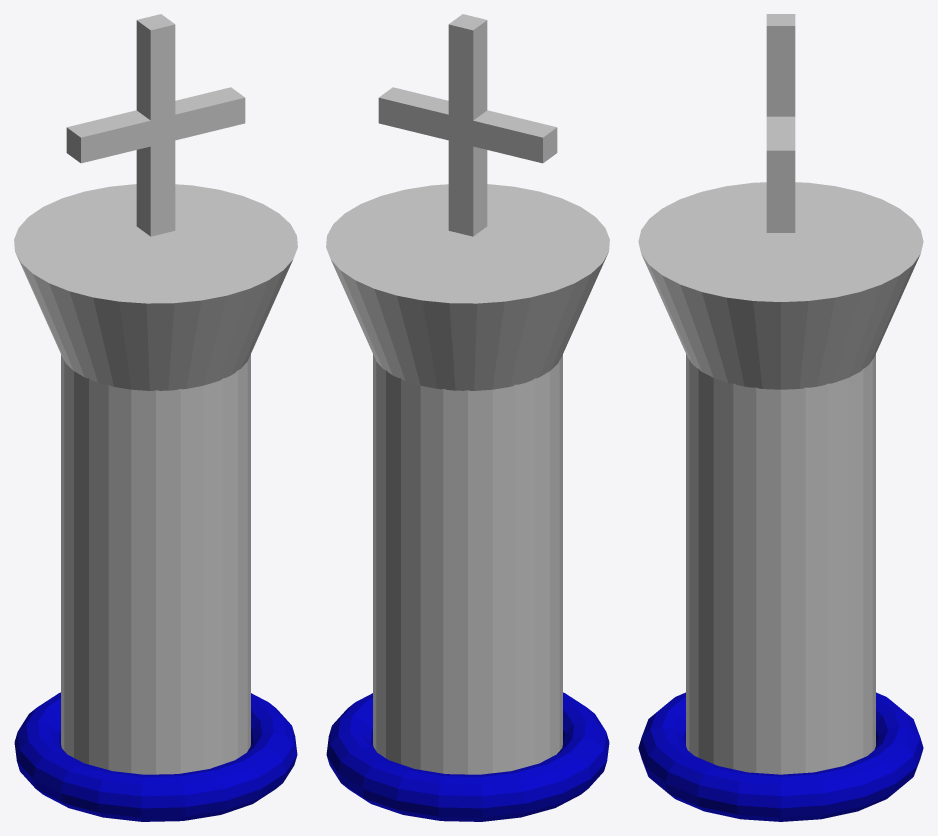
The model's file is WhiteKing.obj.
The picture shows the model from 3 angles, left to right: view 1: azimuth 30°, elevation 25°; view 2: azimuth 150°, elevation 25°; view 3: azimuth 270°, elevation 25°; orthographic projection.
Visible parts, largest first — view 1: Cylinder_Cylinder.004, Cone.001, Torus.004, Cube, Cube.001; view 2: Cylinder_Cylinder.004, Cone.001, Torus.004, Cube, Cube.001; view 3: Cylinder_Cylinder.004, Cone.001, Torus.004, Cube, Cube.001.
Part boxes in pixels (x1,y1,x2,y2): Cylinder_Cylinder.004: (61, 354, 250, 774); Cone.001: (14, 184, 297, 390); Torus.004: (14, 692, 297, 821); Cube: (136, 14, 175, 236); Cube.001: (66, 87, 245, 163); Cylinder_Cylinder.004: (373, 354, 562, 774); Cone.001: (326, 184, 609, 390); Torus.004: (326, 692, 609, 821); Cube: (448, 14, 487, 236); Cube.001: (378, 87, 557, 163); Cylinder_Cylinder.004: (686, 354, 875, 774); Cone.001: (638, 182, 923, 389); Torus.004: (638, 692, 923, 821); Cube: (766, 14, 795, 232); Cube.001: (766, 116, 795, 176).
Size of the model in its own units: 0.6 by 1.74 by 0.6.
